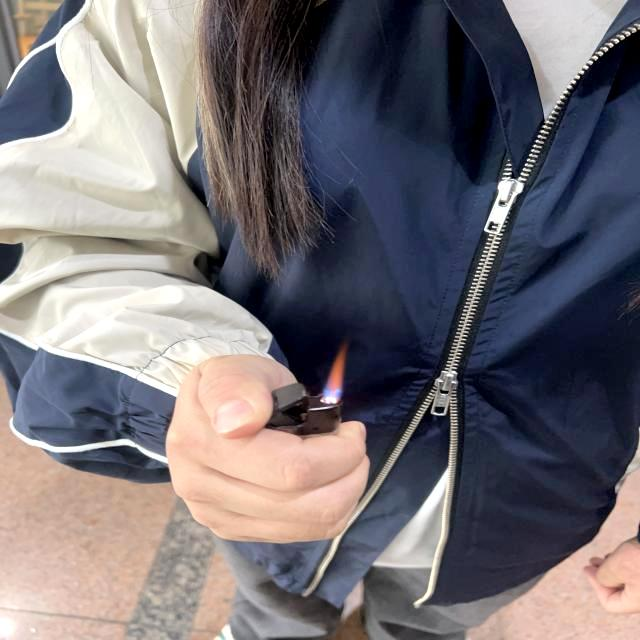fire: (320, 341, 348, 403)
